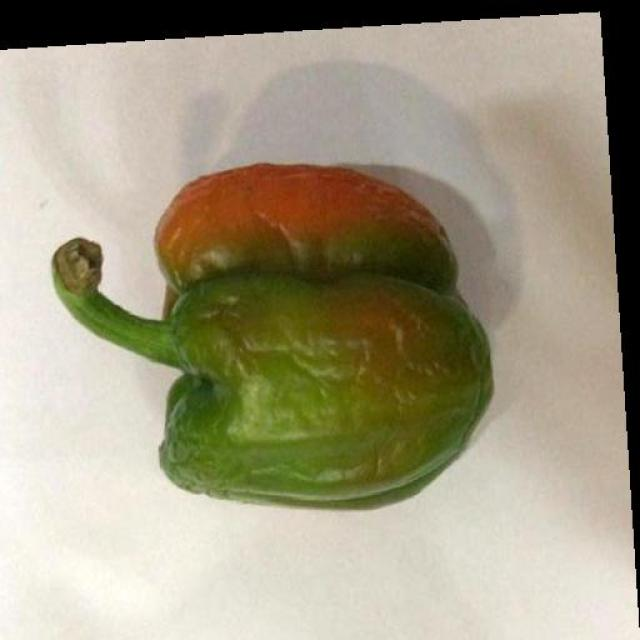Stale_Capsicum: (40, 167, 477, 499)
